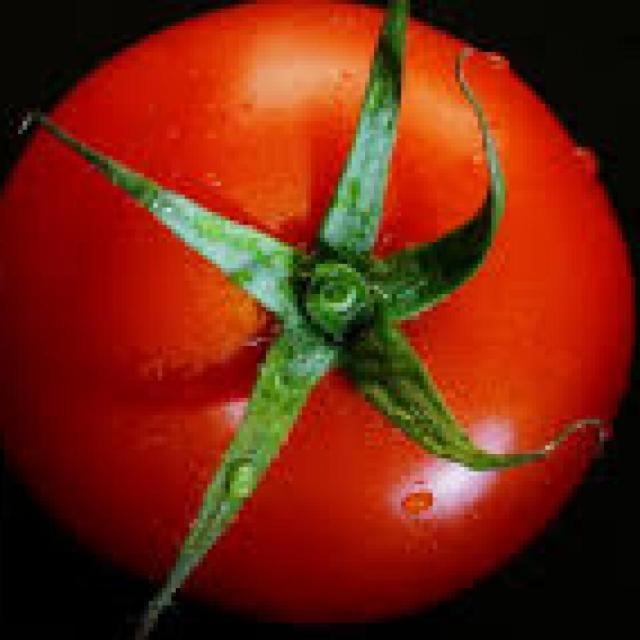Healthy Fruit: (2, 9, 427, 406)
